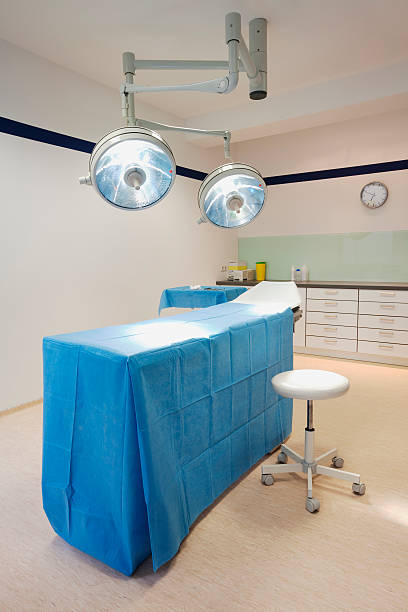chair: (262, 369, 367, 513)
counter: (214, 280, 408, 367)
countertop: (218, 272, 408, 292)
handle: (321, 339, 338, 344), (322, 314, 339, 319), (322, 327, 339, 332), (322, 302, 339, 307), (323, 291, 340, 296), (380, 293, 397, 298), (378, 318, 395, 323), (377, 331, 394, 336), (377, 344, 394, 349), (379, 305, 396, 309)
operating_bed: (41, 280, 300, 576)
surgical_instrument: (184, 286, 229, 293)
surgical_light: (88, 126, 175, 212), (200, 162, 267, 229)
